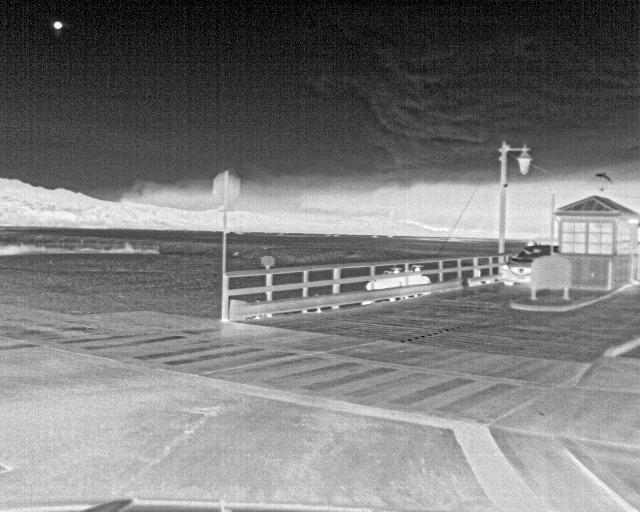car: (500, 243, 556, 288)
